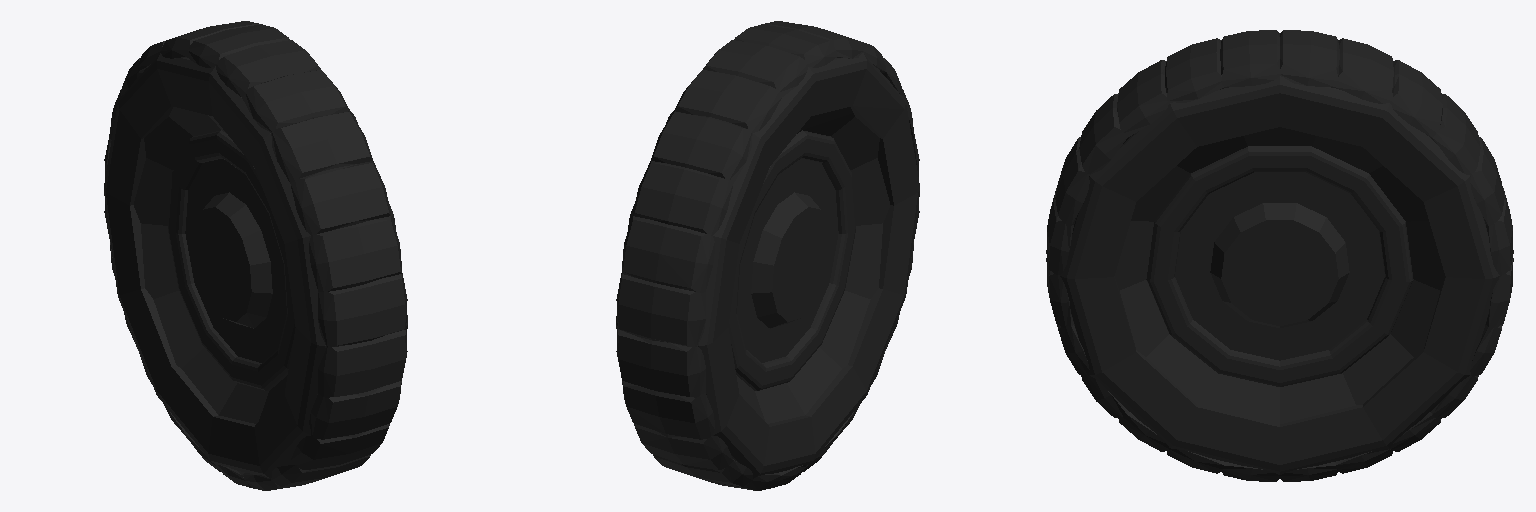
3 views of the same model, side by side, from view 1: azimuth 30°, elevation 25°; view 2: azimuth 150°, elevation 25°; view 3: azimuth 270°, elevation 25° (orthographic).
Parts seen in each view (by area): view 1: CartoonTrack_TireFrontRight; view 2: CartoonTrack_TireFrontRight; view 3: CartoonTrack_TireFrontRight.
Part boxes in pixels (x1,y1,x2,y2): CartoonTrack_TireFrontRight: (104, 21, 407, 490); CartoonTrack_TireFrontRight: (616, 21, 919, 490); CartoonTrack_TireFrontRight: (1046, 30, 1513, 481).
Bounding box in the file's own units: 0.2486 × 1.06 × 1.06.
1 materials, 1 textured.